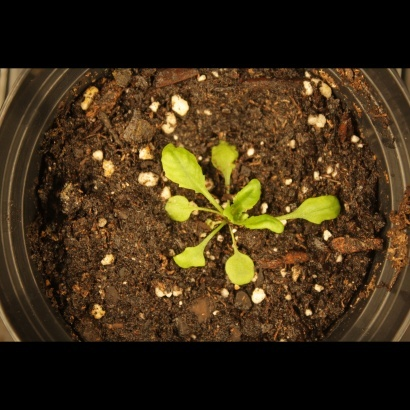leaf: (158, 135, 209, 195), (294, 193, 344, 231), (223, 244, 262, 292), (171, 236, 215, 275), (208, 133, 247, 175), (230, 179, 266, 217), (245, 211, 289, 240), (160, 194, 200, 224)
